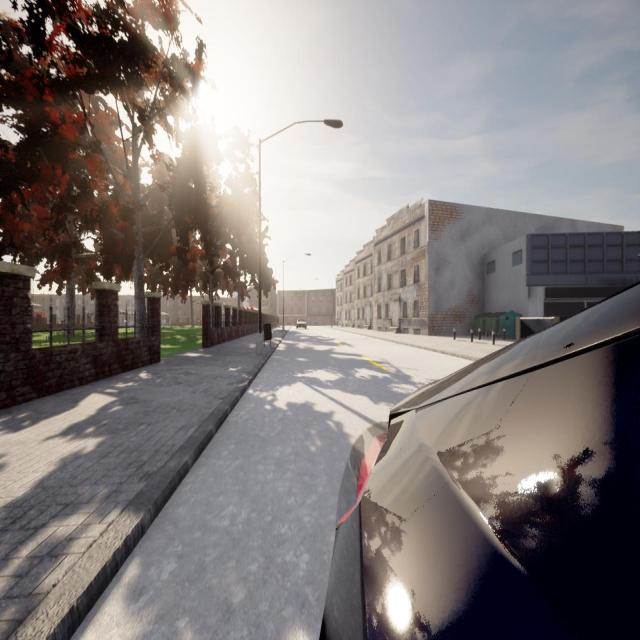Vehicle: (323, 284, 640, 638), (296, 318, 307, 329)
